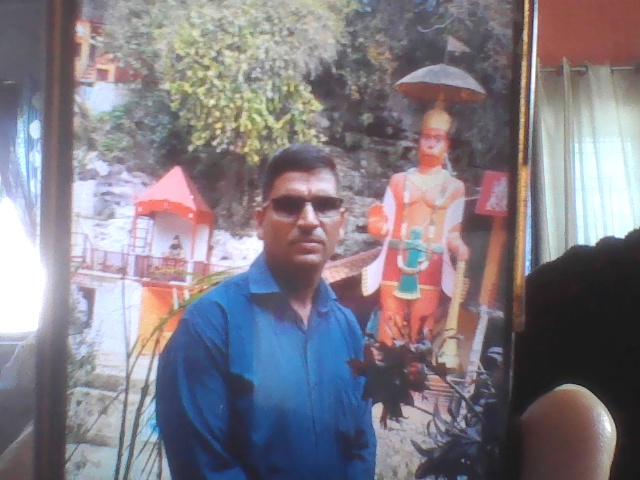fake: (243, 120, 365, 293)
